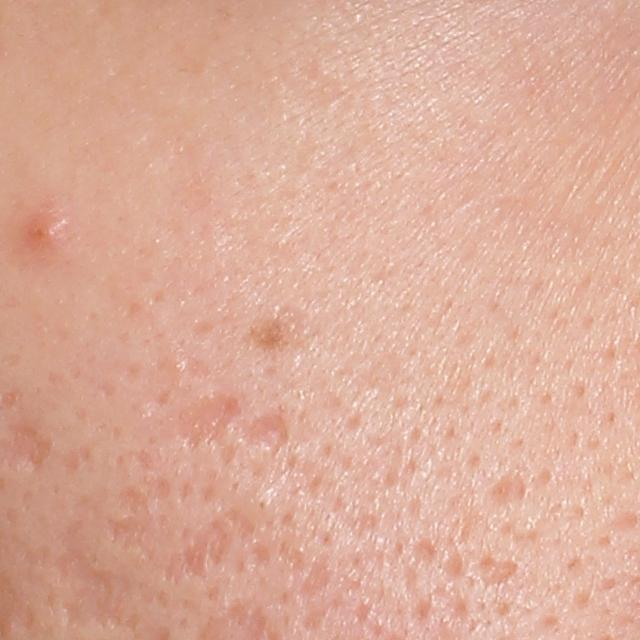atrophic_scar: (104, 482, 257, 584), (53, 521, 135, 636), (178, 394, 247, 447), (237, 411, 288, 458), (482, 463, 530, 508), (294, 551, 338, 600), (475, 554, 522, 588)
papule: (22, 207, 72, 249)
